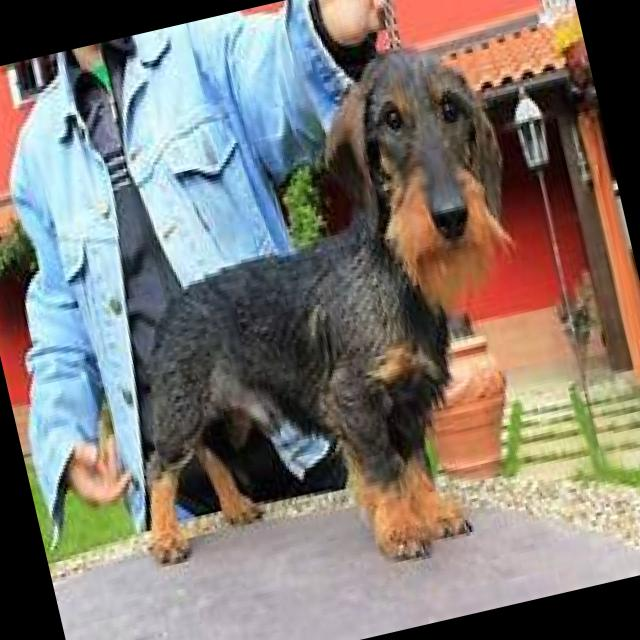animal: (47, 26, 584, 616)
